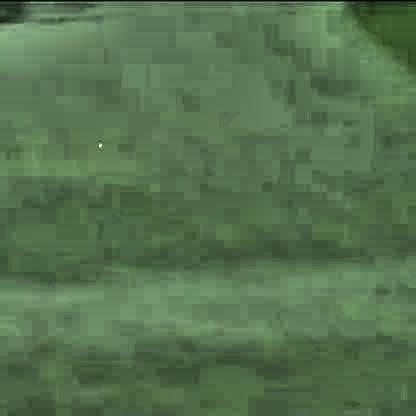golfball: (96, 137, 101, 147)
